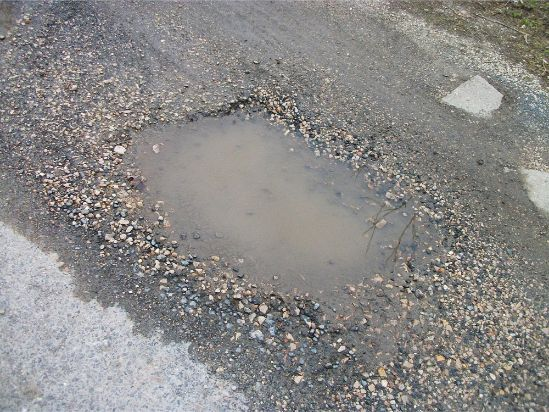pothole: (87, 89, 459, 362)
